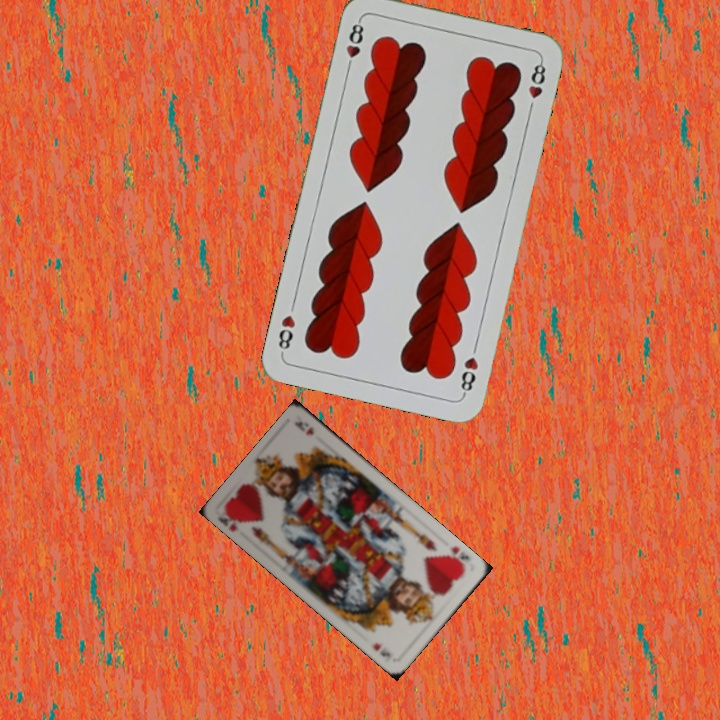H8: (342, 15, 366, 74), (456, 352, 481, 398)
HK: (214, 512, 247, 534), (443, 542, 472, 565)
